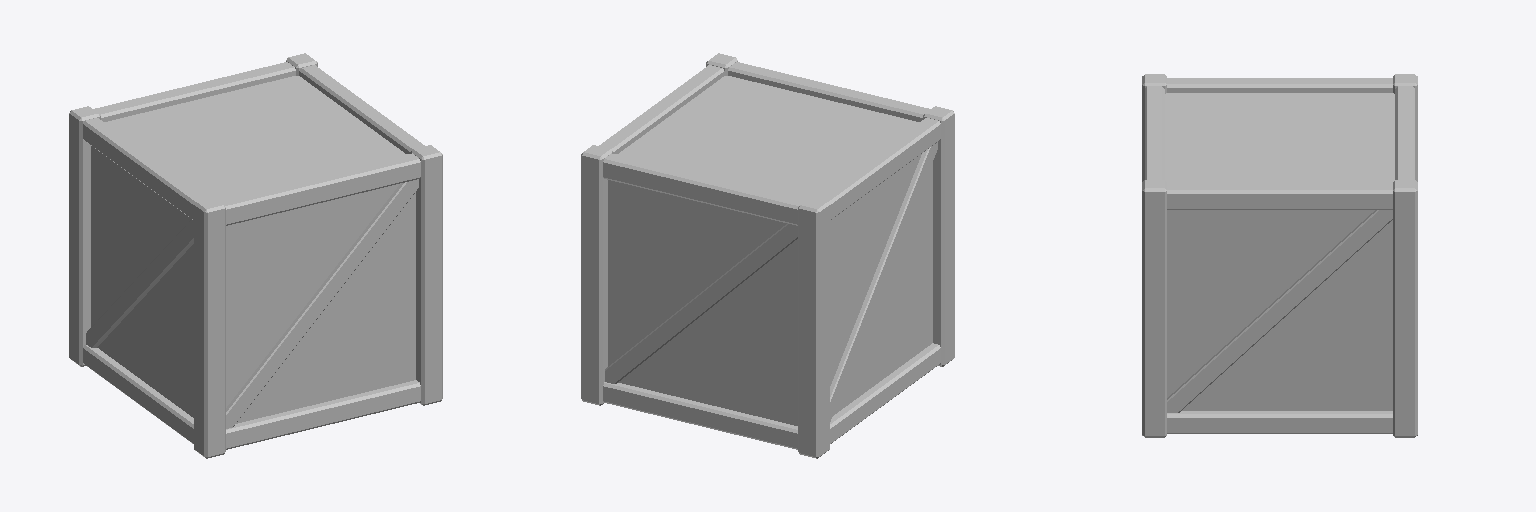
File: WoodenBox02.obj
3 renders of one model, left to right at view 1: azimuth 30°, elevation 25°; view 2: azimuth 150°, elevation 25°; view 3: azimuth 270°, elevation 25°, orthographic.
Visible parts, largest first — view 1: WoodenBox_Cube; view 2: WoodenBox_Cube; view 3: WoodenBox_Cube.
Boxes of the visible parts, box(x1,y1,x2,y2) form: WoodenBox_Cube: box(69, 53, 442, 458); WoodenBox_Cube: box(581, 53, 954, 458); WoodenBox_Cube: box(1142, 74, 1417, 437).
Bounding box in the file's own units: 1 × 1 × 1.